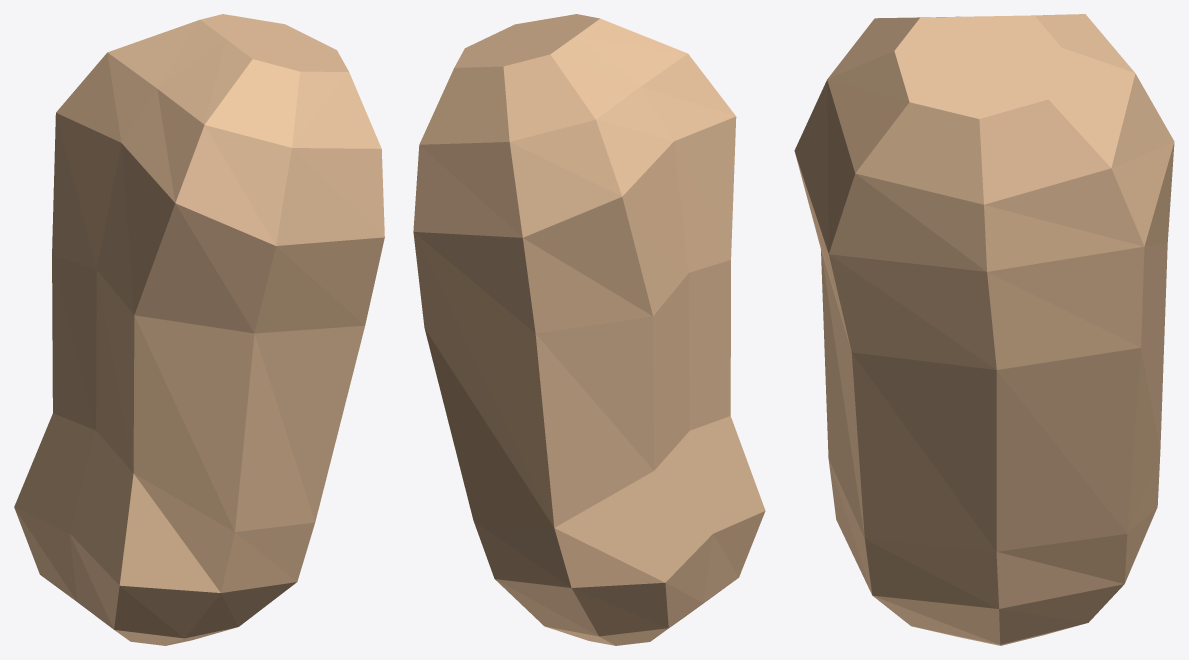
The model's file is RFing41_mesh.dae.
The picture shows the model from 3 angles, left to right: view 1: azimuth 30°, elevation 25°; view 2: azimuth 150°, elevation 25°; view 3: azimuth 270°, elevation 25°; orthographic projection. The views are drawn at different scales.
Visible parts, largest first — view 1: RFing41; view 2: RFing41; view 3: RFing41.
Boxes of the visible parts, x1,y1,x2,y2 form: RFing41: [14, 14, 384, 645]; RFing41: [413, 14, 765, 645]; RFing41: [794, 14, 1174, 645].
Size of the model in its own units: 0.0174 by 0.0334 by 0.0178.
